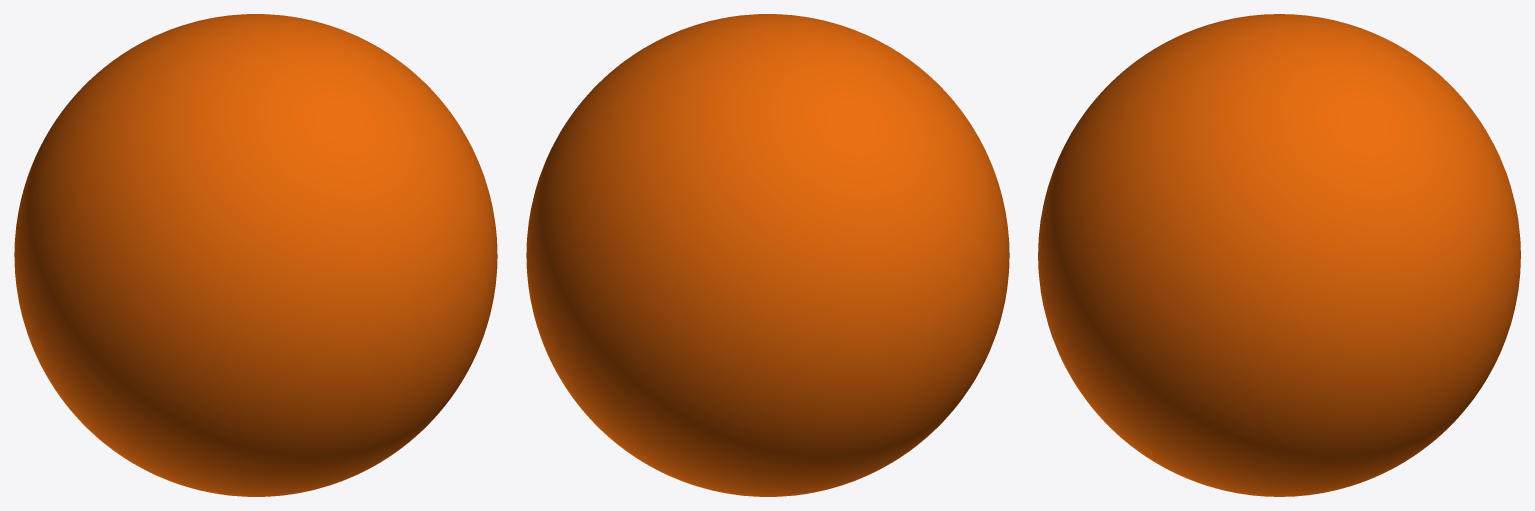
The model's file is ball5.gltf.
3 views of the same model, side by side, from view 1: azimuth 30°, elevation 25°; view 2: azimuth 150°, elevation 25°; view 3: azimuth 270°, elevation 25° (orthographic).
Visible parts, largest first — view 1: ball; view 2: ball; view 3: ball.
Part boxes in pixels (left/top/right/bottom): ball: left=14, top=14, right=497, bottom=496; ball: left=526, top=14, right=1009, bottom=496; ball: left=1038, top=14, right=1520, bottom=496.
Size of the model in its own units: 200 by 200 by 200.
1 material, 1 textured.
